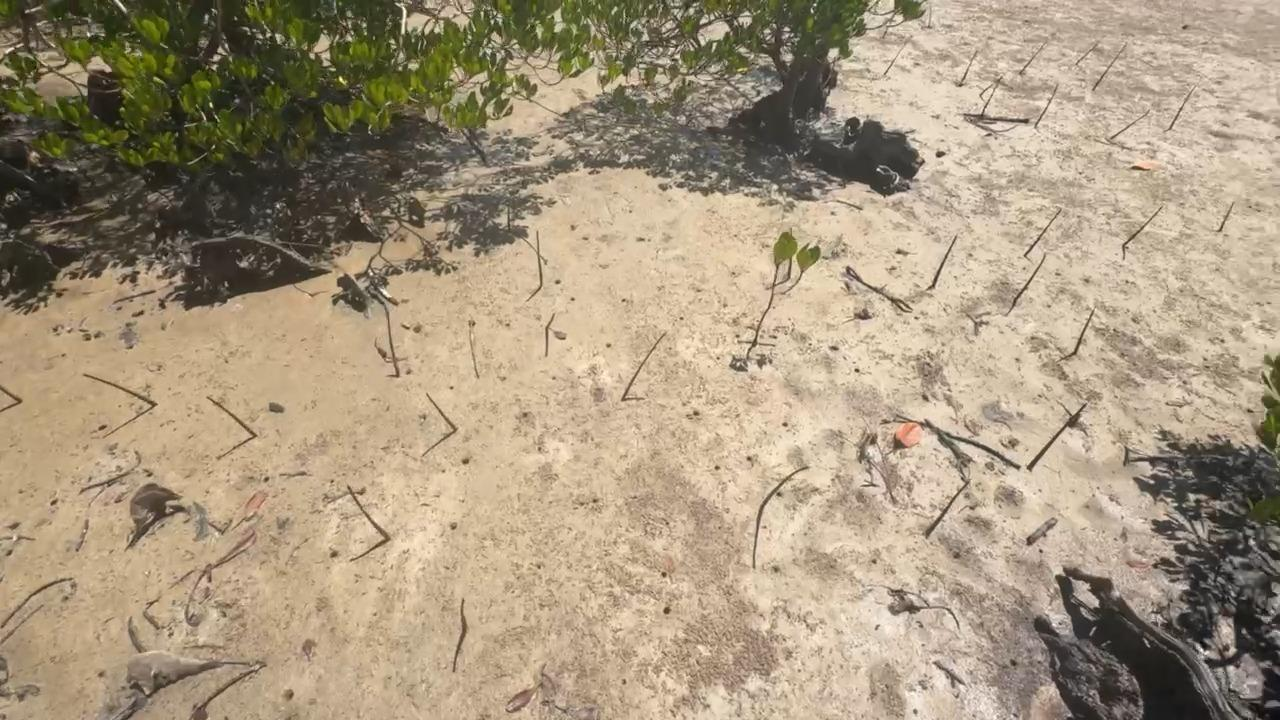Tree: (620, 331, 667, 401), (81, 372, 159, 408), (346, 483, 390, 542), (206, 396, 258, 438), (759, 466, 809, 509), (1023, 209, 1062, 257), (1012, 252, 1048, 303), (1122, 206, 1164, 248), (1092, 44, 1125, 92), (932, 234, 959, 287), (424, 391, 458, 431), (1167, 86, 1196, 131), (1110, 109, 1150, 139), (1072, 308, 1097, 355), (386, 308, 401, 378), (1034, 86, 1058, 127), (883, 42, 906, 75), (1019, 45, 1043, 75), (980, 85, 1000, 117), (957, 51, 976, 84), (1216, 201, 1234, 233), (1074, 42, 1097, 67), (0, 383, 24, 404), (536, 229, 543, 288), (459, 597, 469, 628), (979, 79, 996, 97), (1073, 402, 1088, 419), (546, 313, 557, 329)
